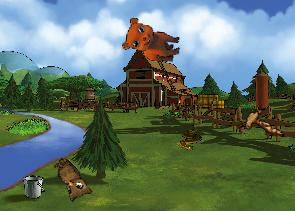bear: (121, 16, 183, 63)
eagle: (233, 101, 284, 143)
owl: (43, 155, 96, 207)
